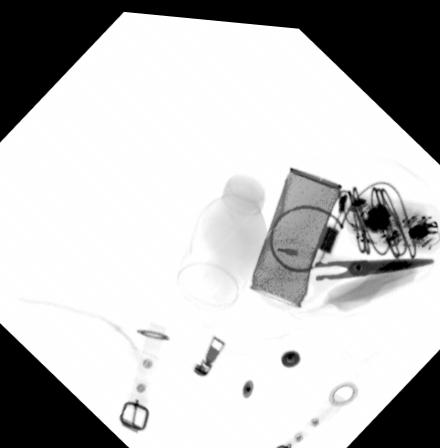Scissors: (243, 229, 433, 306)
